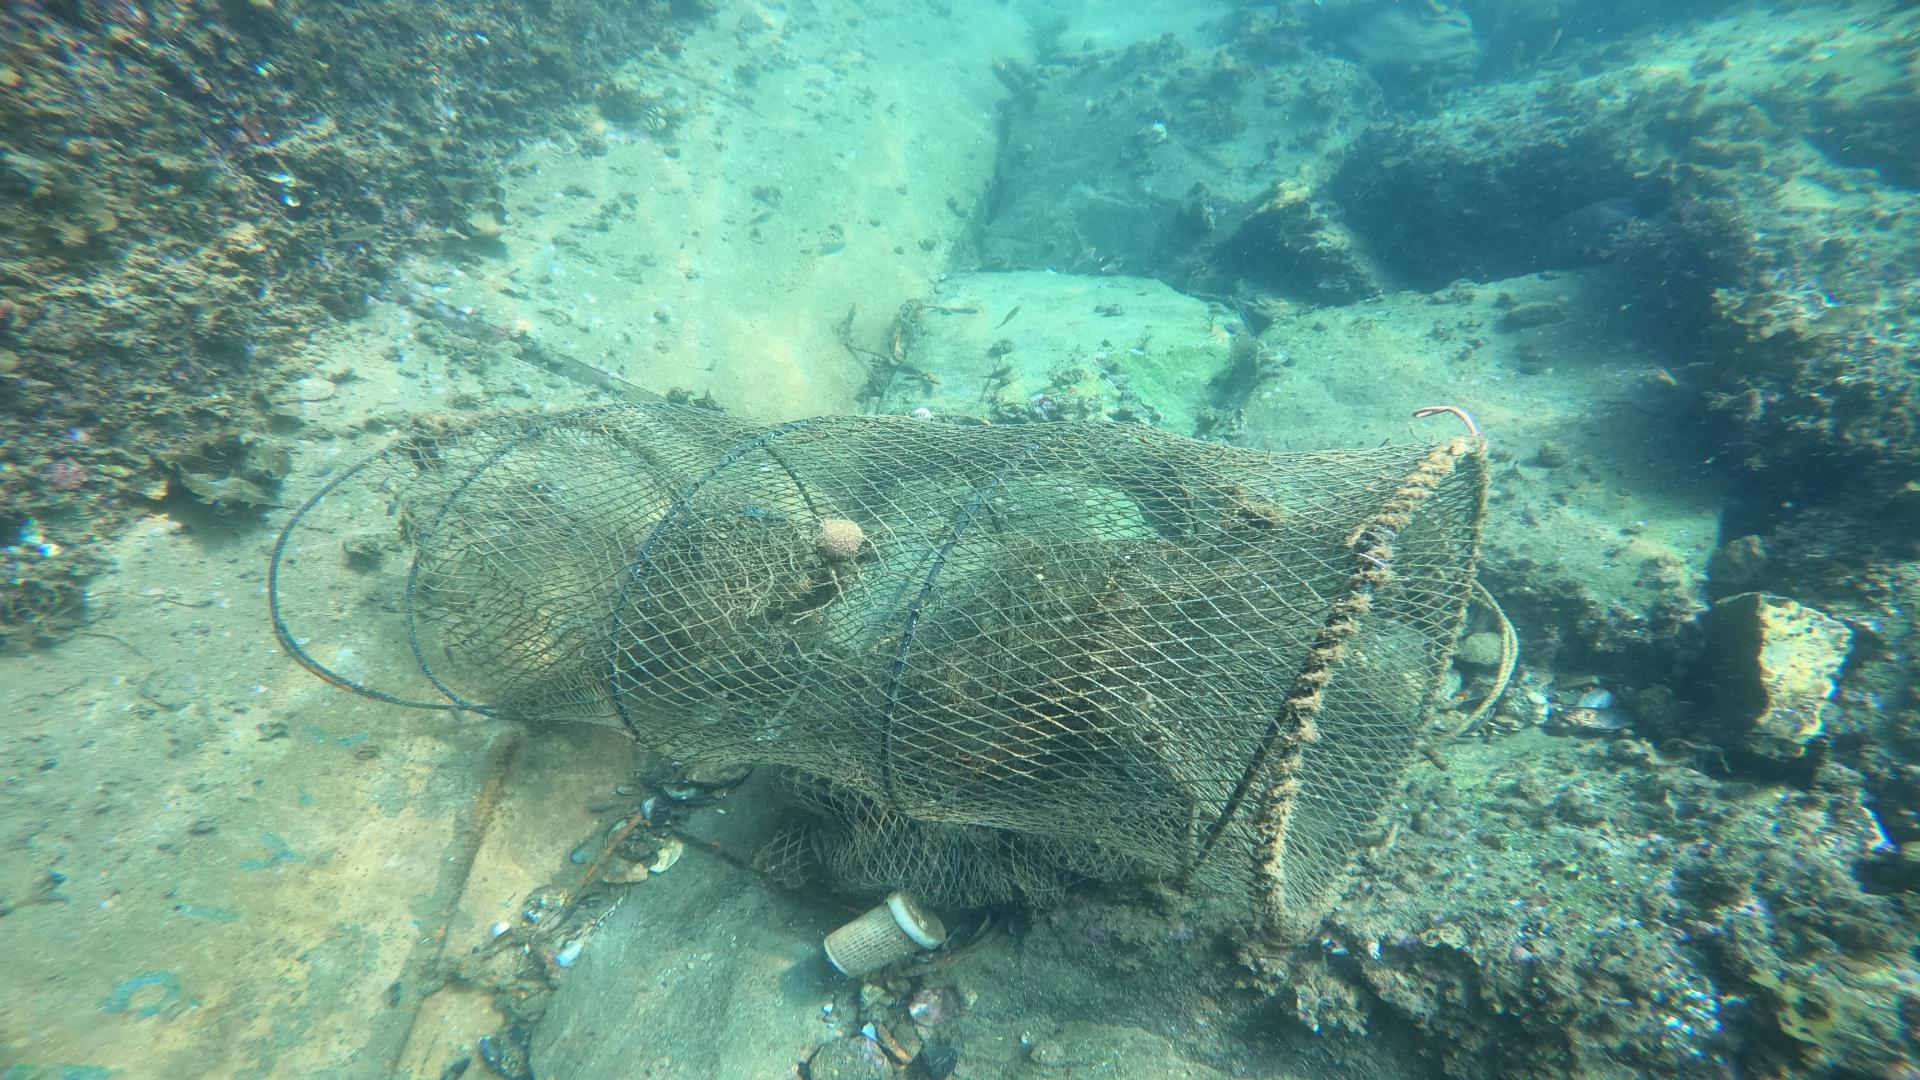spring fish trap: (404, 377, 1493, 949)
